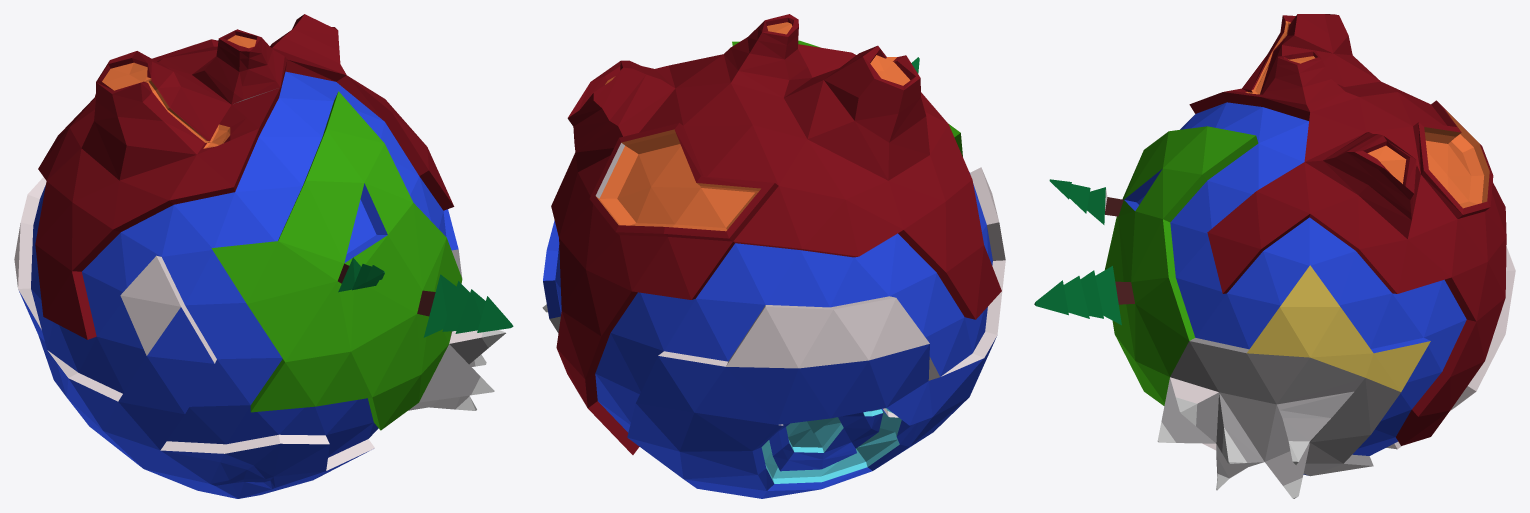
Rendered from Planet.dae.
3 views of the same model, side by side, from view 1: azimuth 30°, elevation 25°; view 2: azimuth 150°, elevation 25°; view 3: azimuth 270°, elevation 25° (orthographic). The views are drawn at different scales.
Visible parts, largest first — view 1: Icosphere; view 2: Icosphere; view 3: Icosphere.
Part boxes in pixels (x1,y1,x2,y2): Icosphere: [14, 14, 513, 498]; Icosphere: [542, 14, 1005, 498]; Icosphere: [1034, 14, 1515, 498].
Size of the model in its own units: 2.18 by 2.34 by 2.15.
